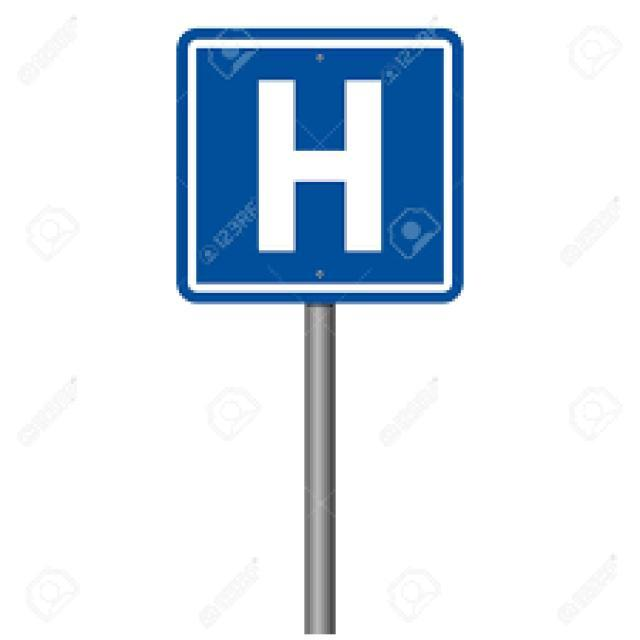hospital ahead: (213, 59, 437, 275)
